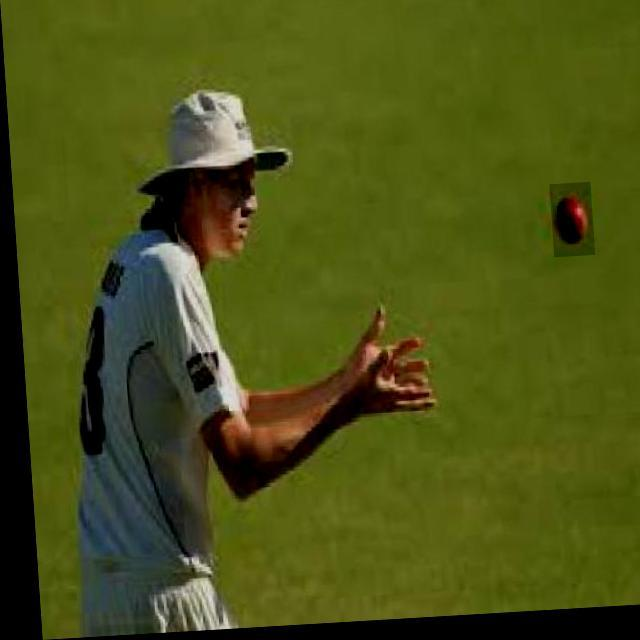-: (546, 189, 591, 264)
